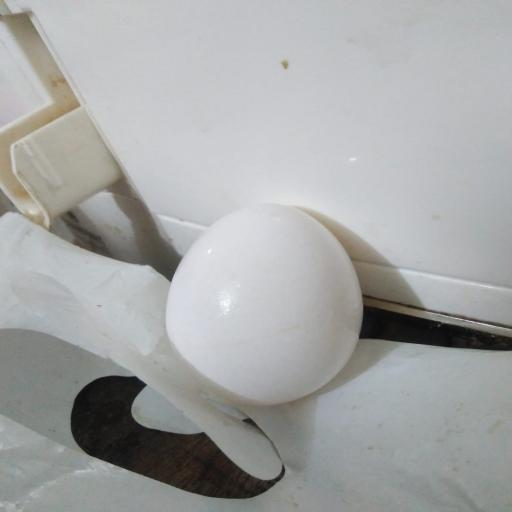telur: (166, 204, 363, 405)
